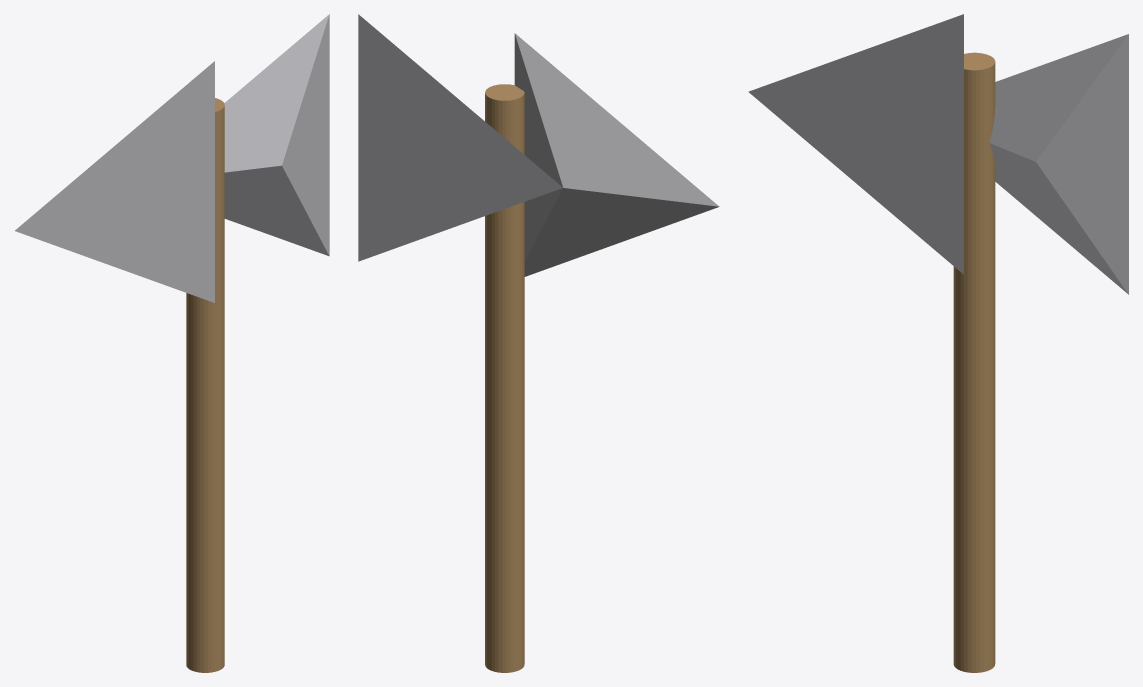
The model's file is axe.glb.
3 renders of one model, left to right at view 1: azimuth 30°, elevation 25°; view 2: azimuth 150°, elevation 25°; view 3: azimuth 330°, elevation 25°, orthographic. The views are drawn at different scales.
Parts seen in each view (by area): view 1: HeadL, HeadR, Handle; view 2: HeadR, HeadL, Handle; view 3: HeadL, HeadR, Handle.
Boxes of the visible parts, x1,y1,x2,y2 form: HeadL: (15,61,214,302); HeadR: (224,14,329,256); Handle: (186,98,224,672); HeadR: (358,14,562,261); HeadL: (514,33,719,276); Handle: (485,84,524,672); HeadL: (748,14,963,274); HeadR: (989,34,1128,294); Handle: (953,52,995,672).
Bounding box in the file's own units: 0.5 × 0.8732 × 0.05.
